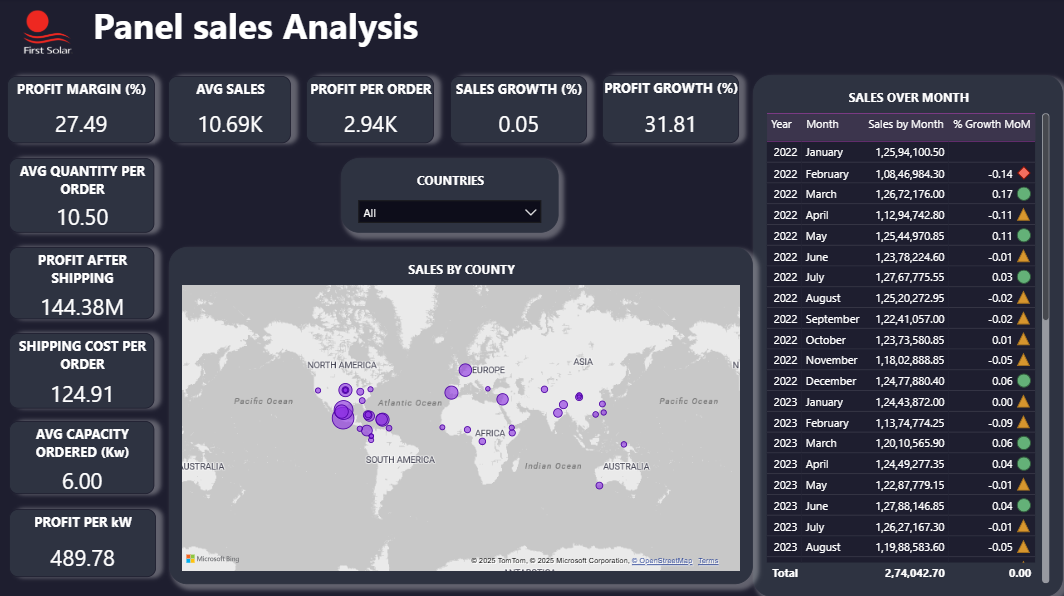

This screenshot's page, from the dashboard's own definition file:
{"tool":"powerbi","page":{"name":"Other insights","canvas":[1280,720],"ordinal":1},"visuals":[{"type":"shape","box":[0,0,1280,81.7],"z":0},{"type":"textbox","box":[112.4,4,666.5,69.6],"z":1000},{"type":"card","title":"PROFIT MARGIN (%)","fields":{"Values":["Measure.Profit Margin %"]},"box":[8.8,93.6,177.8,80.8],"z":3000},{"type":"card","title":"AVG SALES","fields":{"Values":["Measure.Average_sales"]},"box":[202.8,94.1,148.4,80.8],"z":4000},{"type":"card","title":"AVG QUANTITY PER ORDER","fields":{"Values":["Measure.Avg Quantity per Order"]},"box":[10.7,192.7,175.3,89.7],"z":5000},{"type":"card","title":"PROFIT PER ORDER","fields":{"Values":["Measure.Avg Profit per Order"]},"box":[368.9,94.1,154.3,80.8],"z":6000},{"type":"card","title":"SALES GROWTH (%)","fields":{"Values":["Measure.Sales Growth %"]},"box":[542.3,94.1,164.6,80.8],"z":7000},{"type":"card","title":"PROFIT AFTER SHIPPING","fields":{"Values":["Measure.Profit After Shipping"]},"box":[10.7,299.8,175.3,87],"z":8000},{"type":"card","title":"PROFIT PER kW","fields":{"Values":["Measure.Profit per kW"]},"box":[10.7,615.6,176.7,81.6],"z":9000},{"type":"card","title":"SHIPPING COST PER ORDER","fields":{"Values":["Measure.Shipping Cost per Order"]},"box":[10.7,402.8,175.3,91],"z":10000},{"type":"card","title":"AVG CAPACITY ORDERED (Kw)","fields":{"Values":["Measure.Avg_capacity_sold"]},"box":[10.7,509.9,175.3,88.3],"z":11000},{"type":"card","title":"PROFIT GROWTH (%)","fields":{"Values":["Measure.Profit Growth %"]},"box":[725.4,92.3,164.6,81.6],"z":12000},{"type":"tableEx","title":"SALES OVER MONTH","fields":{"Values":["calender.Ordered_date.Variation.Date Hierarchy.Year","calender.Ordered_date.Variation.Date Hierarchy.Month","Measure.Sales by Month","Measure.% Growth MoM"]},"box":[906,92.3,373.4,627.7],"z":13000},{"type":"map","title":"SALES BY COUNTY ","fields":{"Category":["First Solar.Country"],"Size":["Measure.Total_sales"]},"box":[203.4,299.8,702.6,405.5],"z":14000},{"type":"slicer","title":"COUNTRIES","fields":{"Values":["First Solar.Country"]},"box":[410.9,192.7,262.3,89.7],"z":15000},{"type":"image","box":[8.4,0,99.9,81.9],"z":15001}]}

Visuals, with their boxes in screenshot pixels (x1, y1, x2, y2), scaled from the page's 1280x720 canvas onto the 1064x596 screenshot:
shape: rect(0, 0, 1063, 68)
textbox: rect(93, 3, 647, 61)
"PROFIT MARGIN (%)" card: rect(7, 77, 155, 144)
"AVG SALES" card: rect(169, 78, 292, 145)
"AVG QUANTITY PER ORDER" card: rect(9, 160, 155, 234)
"PROFIT PER ORDER" card: rect(307, 78, 435, 145)
"SALES GROWTH (%)" card: rect(451, 78, 588, 145)
"PROFIT AFTER SHIPPING" card: rect(9, 248, 155, 320)
"PROFIT PER kW" card: rect(9, 510, 156, 577)
"SHIPPING COST PER ORDER" card: rect(9, 333, 155, 409)
"AVG CAPACITY ORDERED (Kw)" card: rect(9, 422, 155, 495)
"PROFIT GROWTH (%)" card: rect(603, 76, 740, 144)
"SALES OVER MONTH" tableEx: rect(753, 76, 1063, 595)
"SALES BY COUNTY " map: rect(169, 248, 753, 584)
"COUNTRIES" slicer: rect(342, 160, 560, 234)
image: rect(7, 0, 90, 68)
